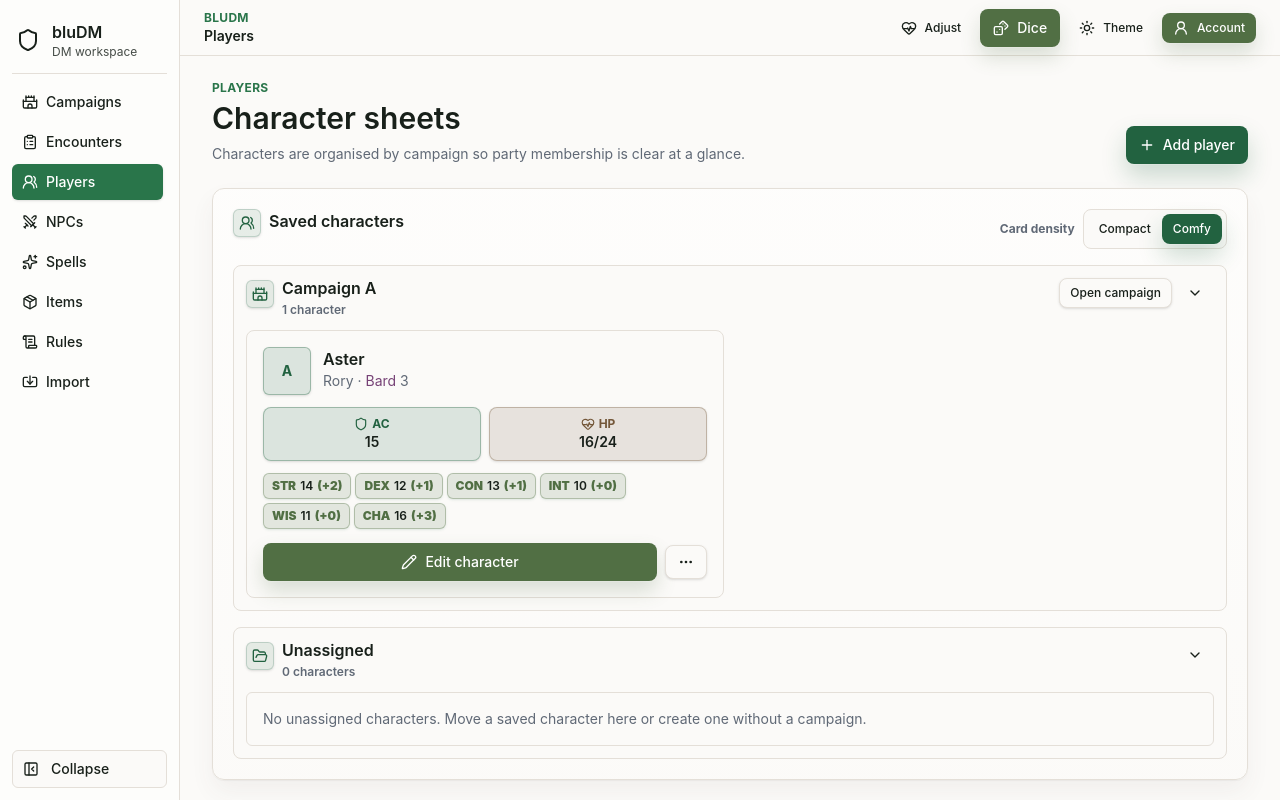
PlayersPage › switches persisted Compact and Comfy modes and omits temporary HP from the roster
This screenshot has width=1280, height=800.
Expected: the text "STR" is shown, [272,478,296,494]
Expected: the text "16/24" is shown, [579,433,617,450]
Click the button "Compact": (1125, 229) [1088,214,1162,244]
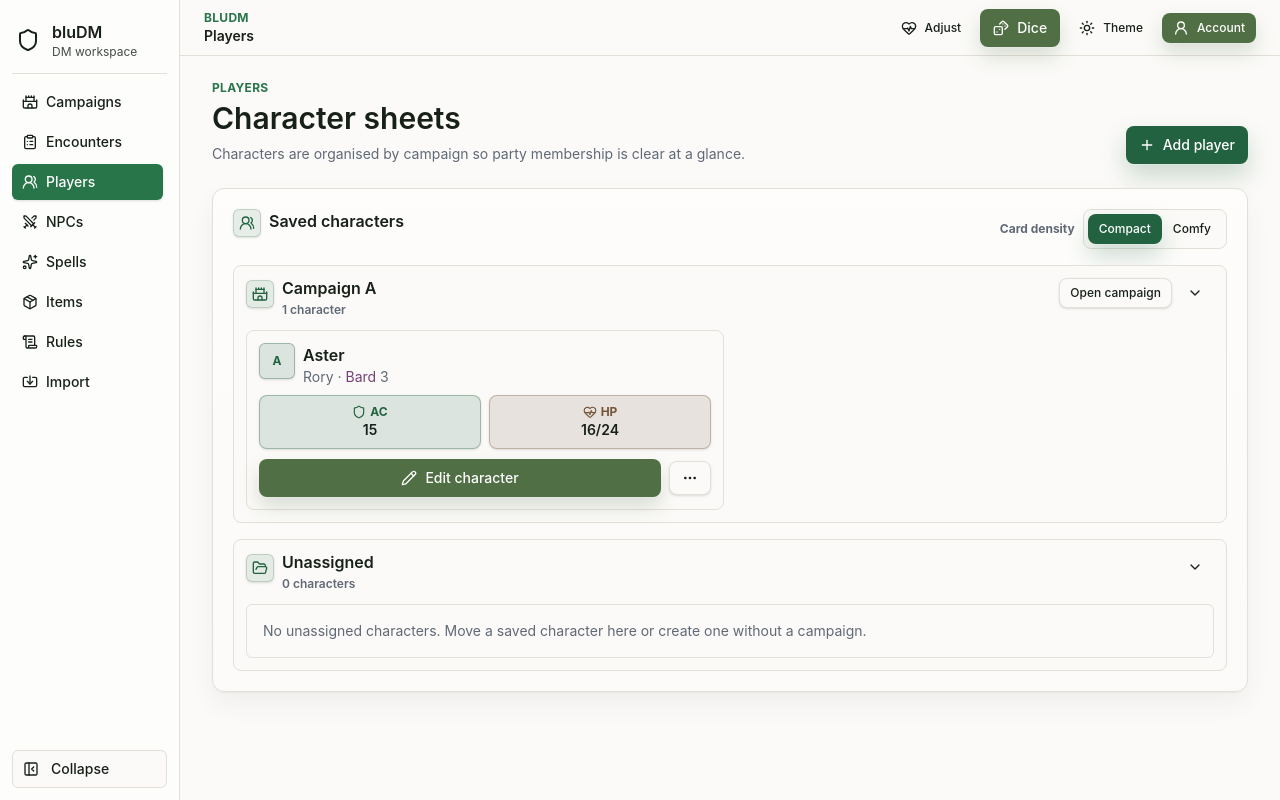
Result: the text "STR" is gone
Click the button "Comfy": (1192, 229) [1162,214,1222,244]
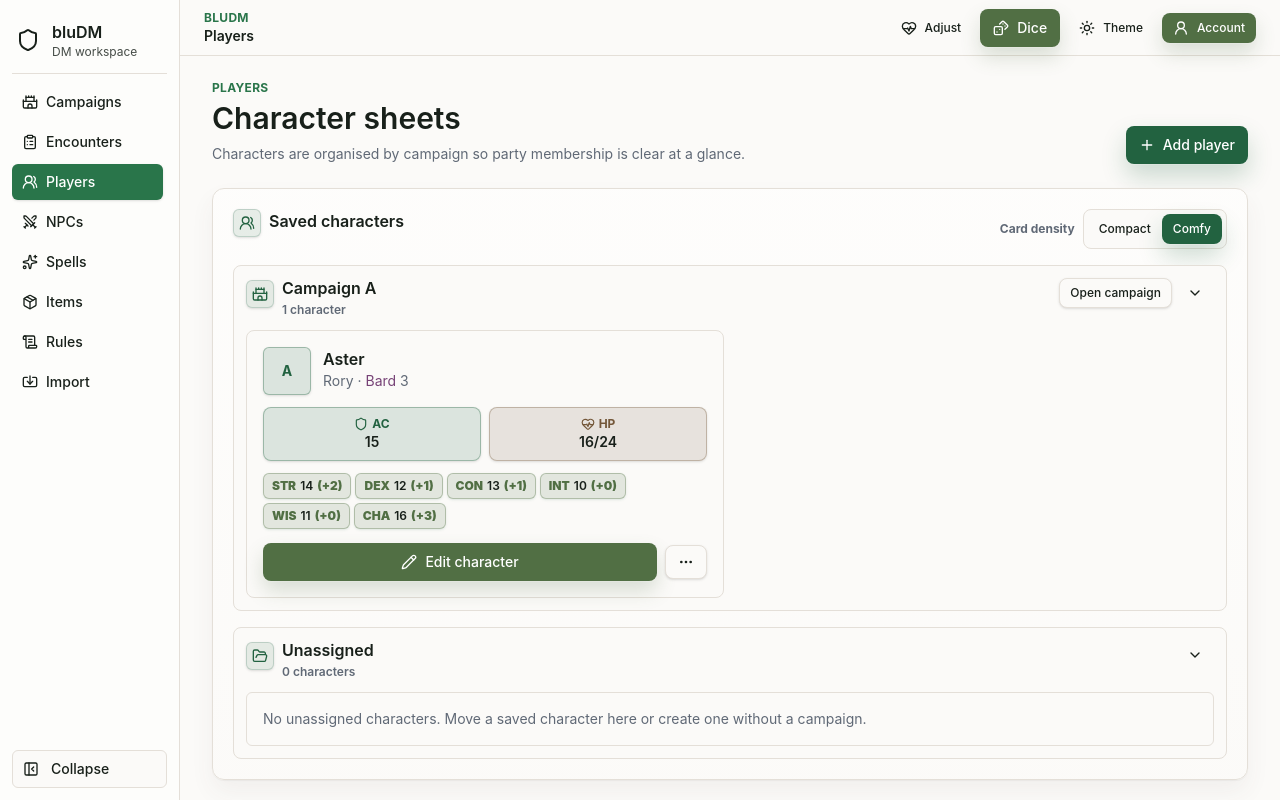
Result: the text "STR" is shown at [272,478,296,494]
